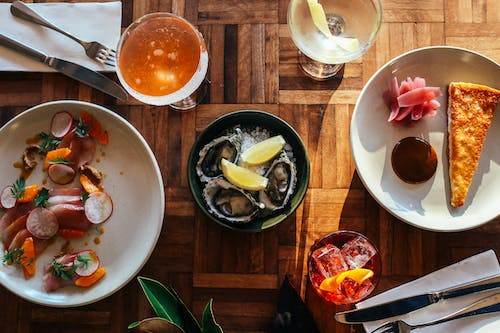knife: (0, 32, 130, 103), (334, 271, 500, 325)
